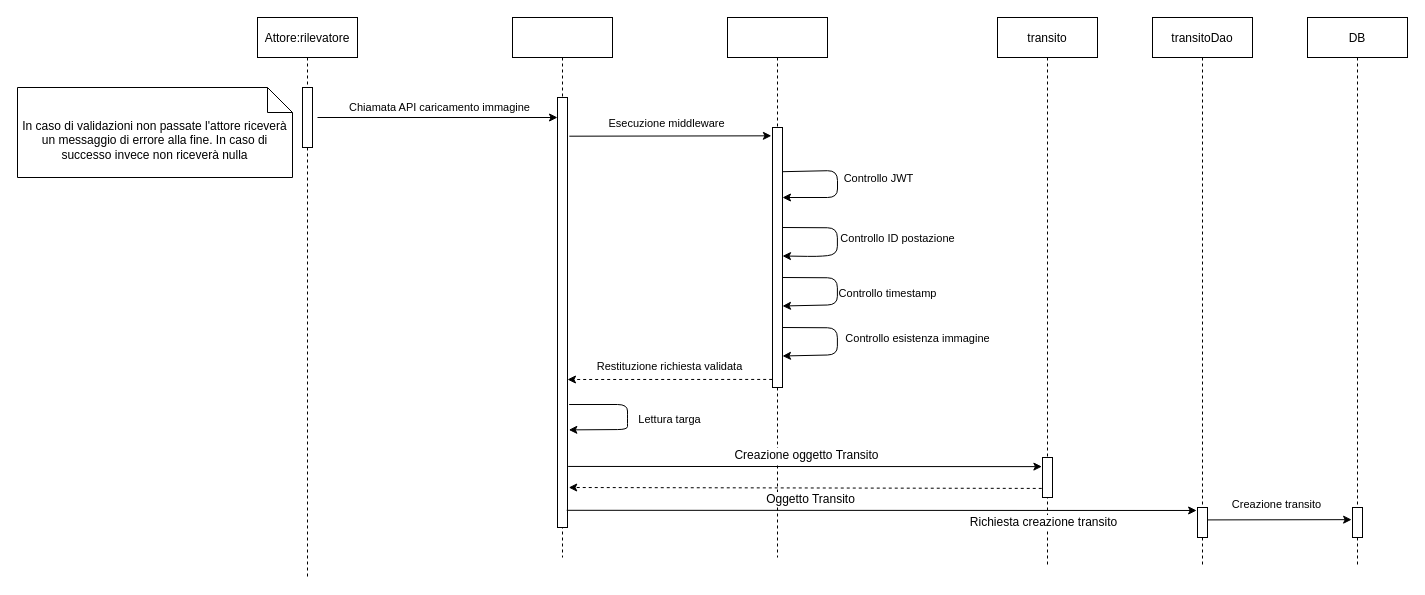
Image size: 1425x595. Some labels were removed from this diagram. The box of each missing label's shape, as (x1, y1, x2, y2) in pixels:
index: (512, 16, 612, 558)
middleware: (726, 16, 828, 558)
